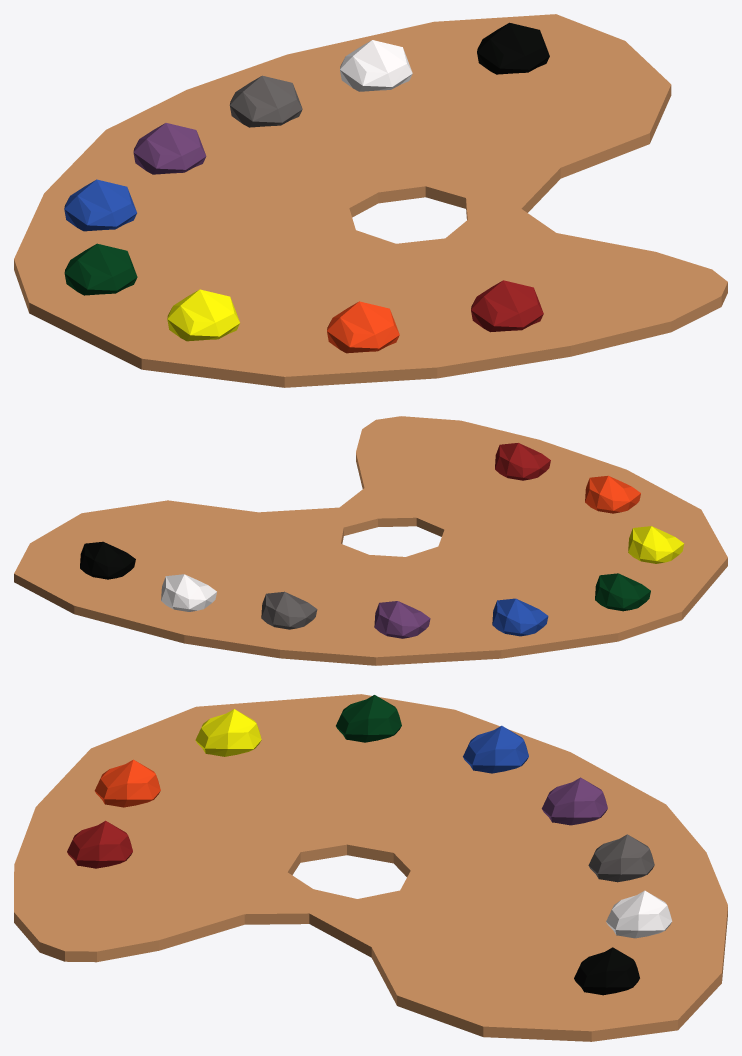
File: diseno.glb
The picture shows the model from 3 angles, top to bottom: view 1: azimuth 30°, elevation 25°; view 2: azimuth 150°, elevation 25°; view 3: azimuth 270°, elevation 25°; orthographic projection. The views are drawn at different scales.
Visible parts, largest first — view 1: Node; view 2: Node; view 3: Node.
Part boxes in pixels (x1=…): Node: x1=14, y1=14, x2=727, y2=387; Node: x1=14, y1=416, x2=727, y2=665; Node: x1=14, y1=694, x2=727, y2=1041.
Bounding box in the file's own units: 1.61 × 0.1007 × 1.44.
Materials: 1 (1 with a texture image).
